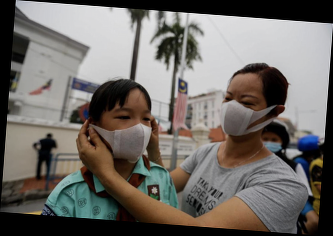with_mask: (100, 105, 153, 162), (218, 88, 266, 139)
